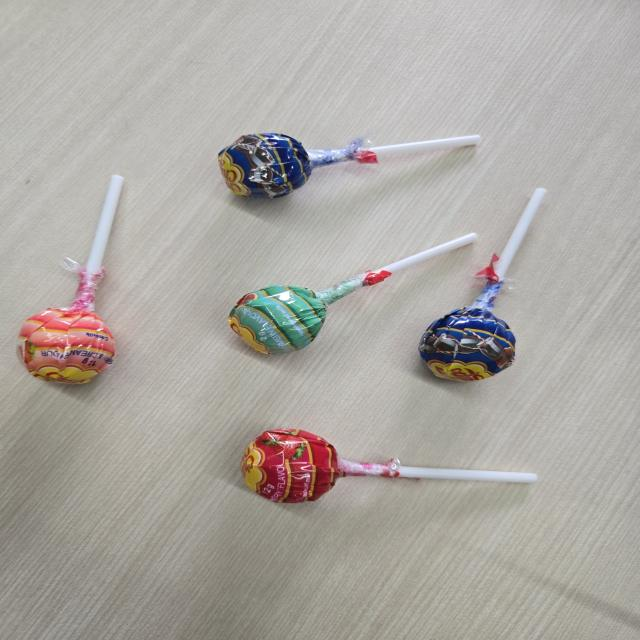lollipop: (225, 231, 479, 362), (416, 185, 553, 388), (240, 428, 539, 514), (16, 173, 128, 391), (219, 125, 483, 207)
